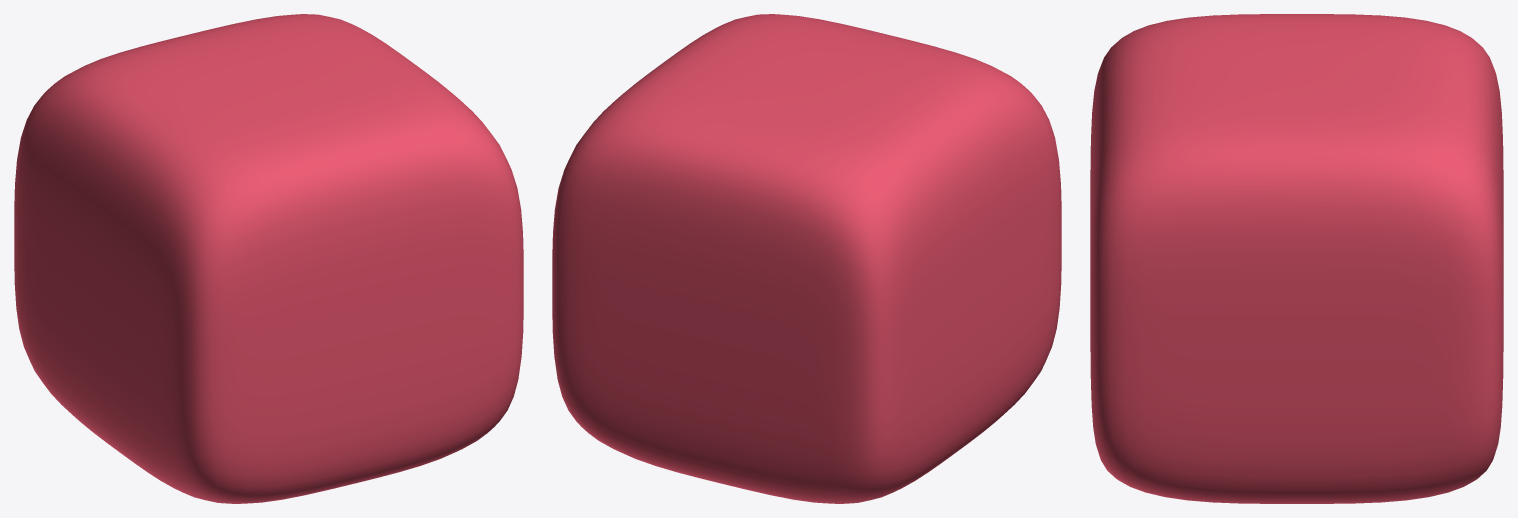
The model's file is cube pill.fbx.
The picture shows the model from 3 angles, left to right: view 1: azimuth 30°, elevation 25°; view 2: azimuth 150°, elevation 25°; view 3: azimuth 270°, elevation 25°; orthographic projection. The views are drawn at different scales.
Parts seen in each view (by area): view 1: Cube; view 2: Cube; view 3: Cube.
Boxes of the visible parts, left/top/right/bottom form: Cube: left=14, top=14, right=523, bottom=503; Cube: left=552, top=14, right=1061, bottom=503; Cube: left=1090, top=14, right=1503, bottom=503.
Size of the model in its own units: 100 by 100 by 100.
